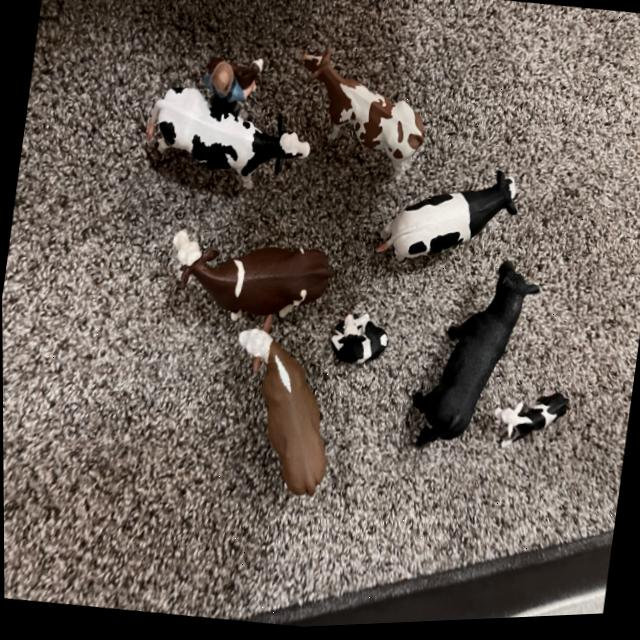cow: (392, 256, 544, 467), (138, 78, 314, 210), (278, 41, 439, 183), (229, 313, 346, 506), (162, 231, 337, 337), (365, 171, 527, 278), (485, 384, 573, 454), (319, 306, 394, 382), (230, 61, 266, 101)
person: (196, 54, 258, 113)
